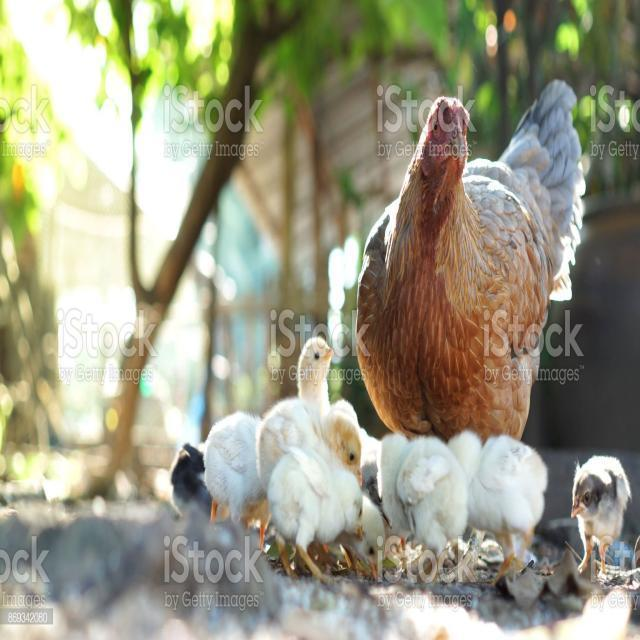Healthy: (257, 333, 345, 502), (567, 442, 635, 585)
Not_a_Chicken: (345, 71, 592, 436)
